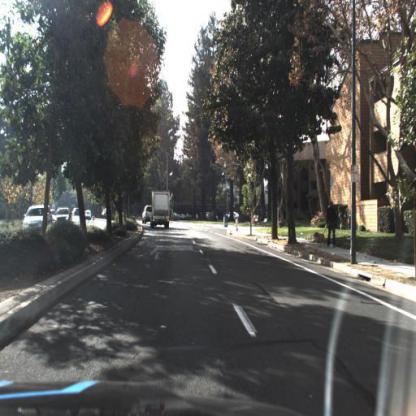car: (23, 203, 54, 239), (53, 201, 74, 232), (54, 205, 75, 226), (141, 203, 154, 227)
pedestrian: (324, 200, 339, 249)
truck: (150, 190, 175, 234)
